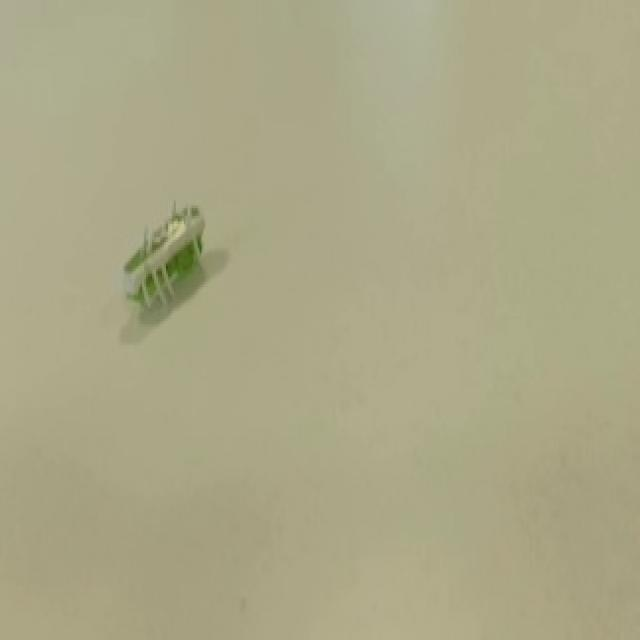4_NanoBug_Blanco: (118, 165, 233, 346)
